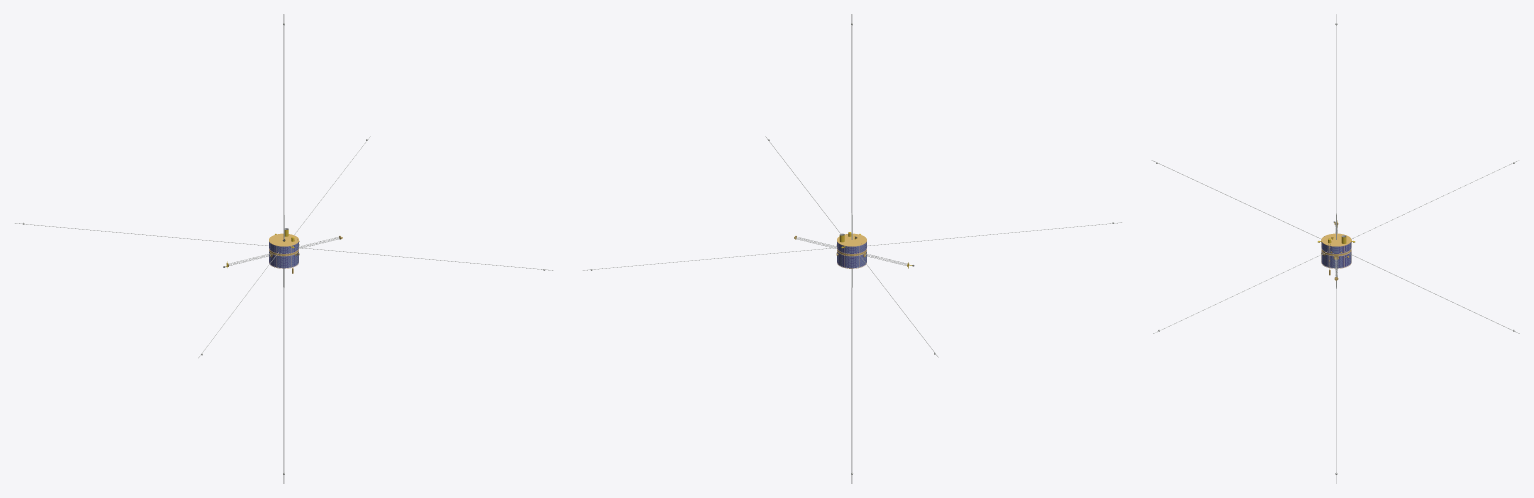
Rendered from wind.glb.
3 views of the same model, side by side, from view 1: azimuth 30°, elevation 25°; view 2: azimuth 150°, elevation 25°; view 3: azimuth 270°, elevation 25° (orthographic).
Visible parts, largest first — view 1: Layer_0; view 2: Layer_0; view 3: Layer_0.
Part boxes in pixels (bbox=[...]): Layer_0: bbox=[14, 14, 553, 483]; Layer_0: bbox=[582, 14, 1122, 483]; Layer_0: bbox=[1151, 14, 1519, 483].
Bounding box in the file's own units: 41.63 × 52.43 × 37.31.
4 materials, 4 textured.
